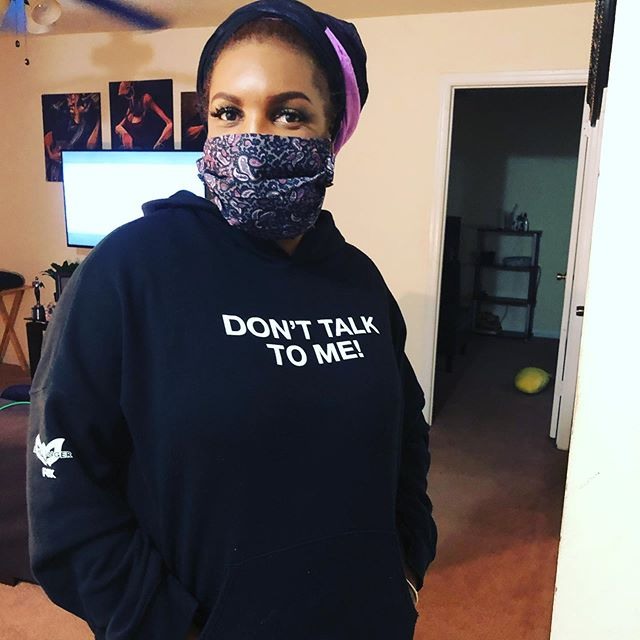homemade: (194, 131, 350, 235), (192, 129, 348, 233)
